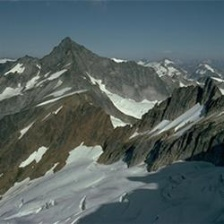neutral: (3, 4, 223, 222)
